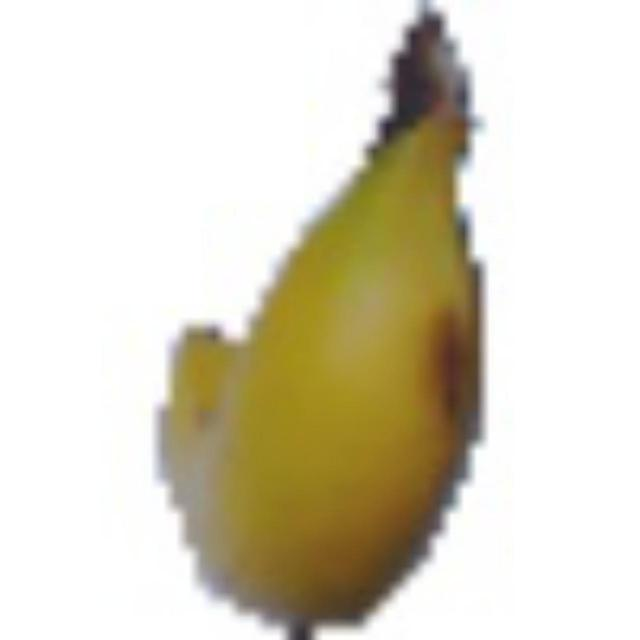banana: (137, 0, 520, 624)
